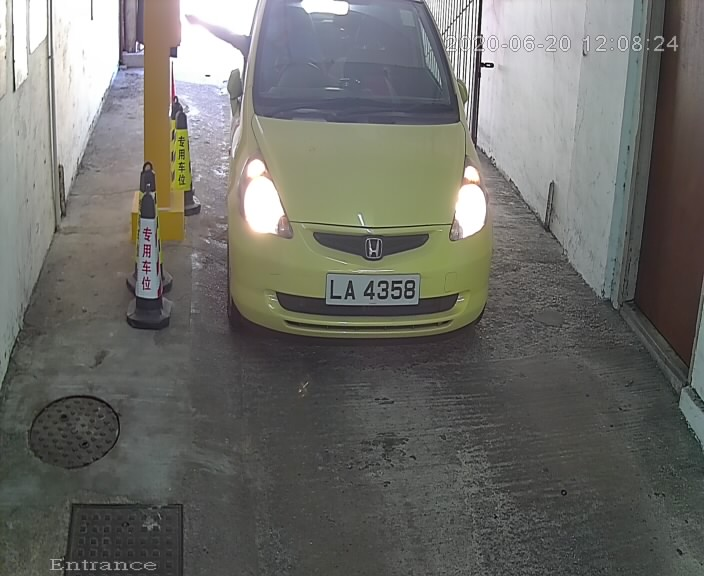privatecar: (202, 3, 517, 368)
